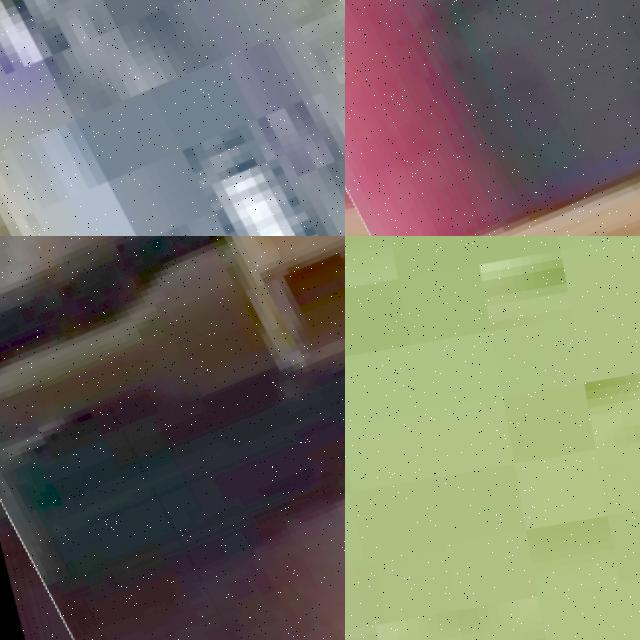0: (0, 0, 345, 236)
drone: (0, 236, 345, 640), (345, 0, 640, 236)
